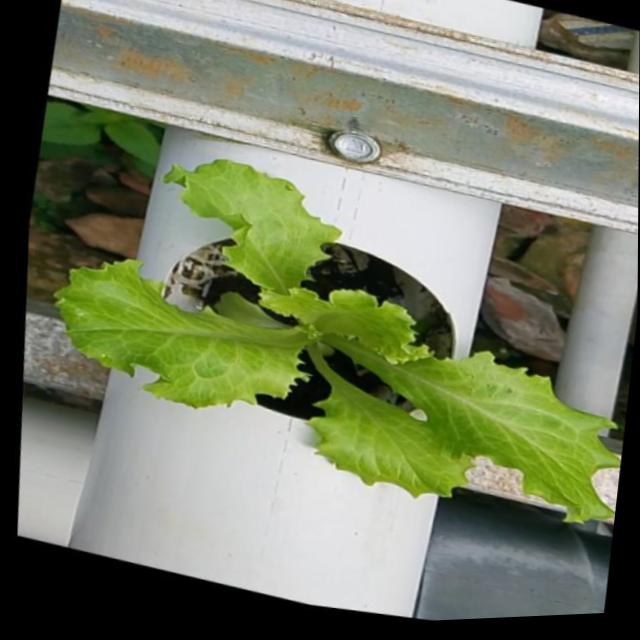Baby: (53, 147, 622, 513)
